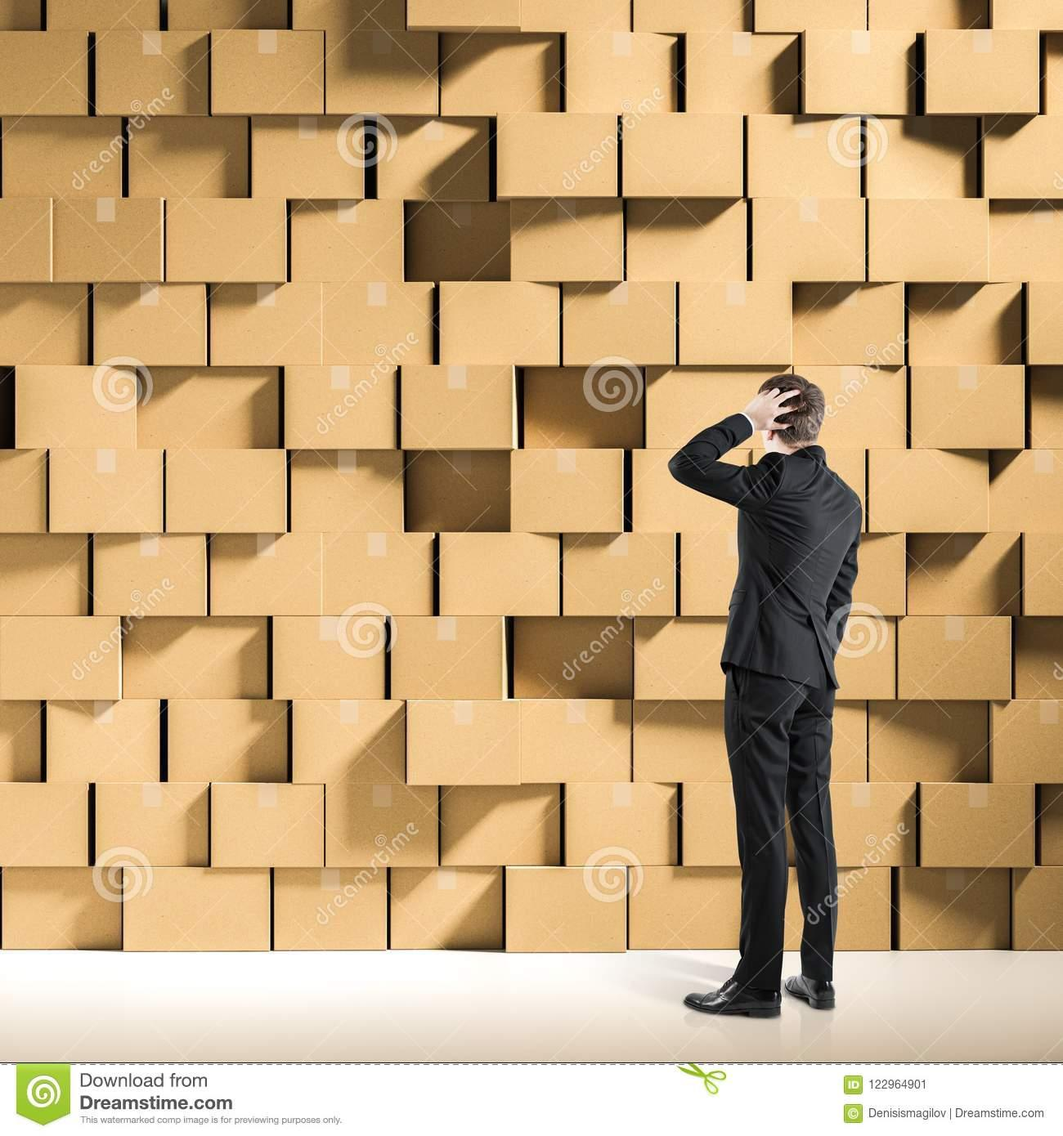Box: (406, 699, 633, 785), (124, 868, 271, 952), (122, 617, 269, 699), (138, 366, 280, 448), (273, 604, 388, 699), (524, 357, 644, 448), (646, 366, 779, 448), (16, 364, 144, 448), (868, 197, 990, 282), (622, 113, 744, 197), (868, 448, 990, 532), (166, 197, 286, 282), (375, 115, 491, 202), (497, 113, 617, 197), (166, 448, 286, 532), (506, 868, 626, 952), (127, 115, 249, 197), (2, 115, 124, 197), (626, 200, 748, 282), (0, 617, 122, 699), (440, 783, 562, 865), (440, 532, 559, 616), (169, 699, 289, 782), (251, 115, 369, 199), (402, 364, 517, 450), (440, 282, 559, 365), (513, 617, 633, 699), (562, 532, 677, 617), (919, 783, 1034, 868), (910, 364, 1026, 448), (211, 29, 324, 115), (926, 29, 1039, 115), (326, 783, 440, 868), (908, 282, 1023, 366), (49, 448, 164, 532), (897, 615, 1012, 699), (804, 29, 917, 114), (511, 197, 624, 282), (284, 364, 397, 449), (211, 783, 324, 868), (628, 865, 741, 950), (391, 617, 508, 699), (95, 31, 209, 115), (93, 282, 206, 366), (793, 282, 906, 366), (511, 448, 624, 532), (93, 532, 206, 616), (564, 781, 677, 865), (442, 33, 559, 114), (326, 31, 440, 114), (679, 282, 793, 365), (53, 197, 164, 282), (562, 283, 677, 365), (391, 617, 506, 699), (273, 868, 388, 950), (895, 868, 1010, 950), (322, 532, 435, 615), (908, 532, 1021, 615), (95, 783, 209, 865), (211, 282, 322, 366), (746, 116, 861, 197), (866, 115, 979, 197), (291, 200, 404, 282), (795, 366, 908, 448), (291, 450, 404, 532), (47, 699, 160, 781), (391, 868, 504, 950), (566, 31, 677, 114), (211, 532, 322, 615), (322, 282, 433, 364), (686, 33, 799, 113), (630, 448, 737, 532), (406, 450, 511, 532), (406, 202, 511, 282), (0, 781, 91, 868), (0, 532, 89, 617), (0, 783, 89, 868), (0, 31, 89, 115), (635, 617, 726, 699), (830, 783, 917, 868), (0, 284, 89, 365), (990, 448, 1063, 532), (990, 699, 1063, 783), (835, 606, 897, 699), (679, 532, 737, 616), (682, 783, 739, 865), (837, 868, 892, 949), (0, 197, 53, 281), (852, 535, 906, 615), (0, 448, 47, 531), (826, 448, 866, 529), (786, 870, 804, 949), (724, 448, 753, 466), (753, 448, 764, 463)
